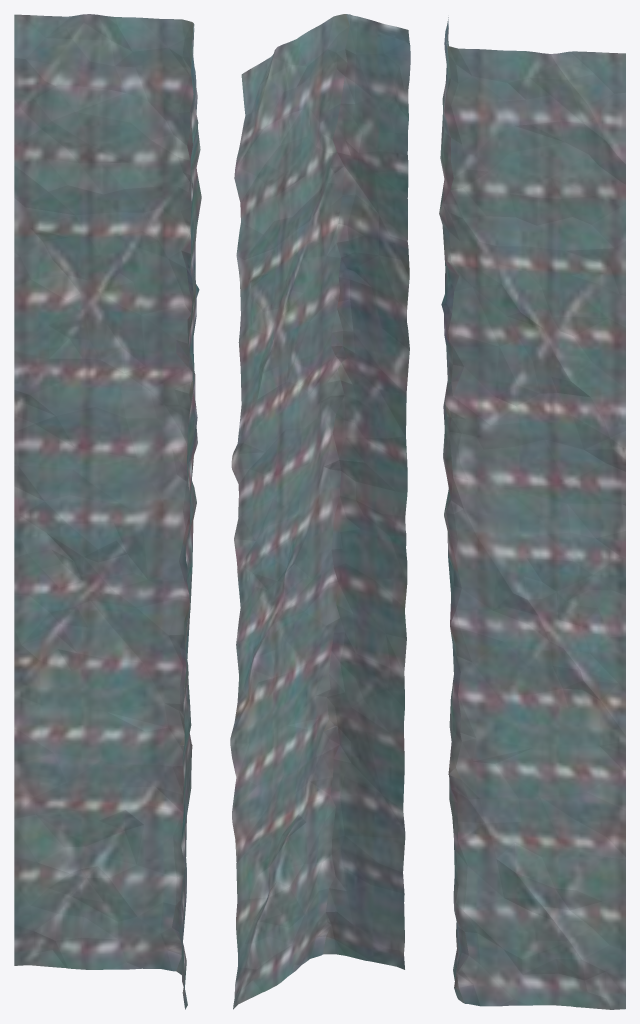
Rendered from Tile__003__006_L22_00025100.glb.
3 views of the same model, side by side, from view 1: azimuth 90°, elevation 25°; view 2: azimuth 150°, elevation 25°; view 3: azimuth 270°, elevation 25° (orthographic).
Visible parts, largest first — view 1: root; view 2: root; view 3: root.
Part boxes in pixels (x1,y1,x2,y2): root: (14, 14, 201, 1009); root: (230, 14, 410, 1009); root: (439, 17, 625, 1009).
Size of the model in its own units: 1.87 by 18.37 by 3.27.
Materials: 1 (1 with a texture image).
